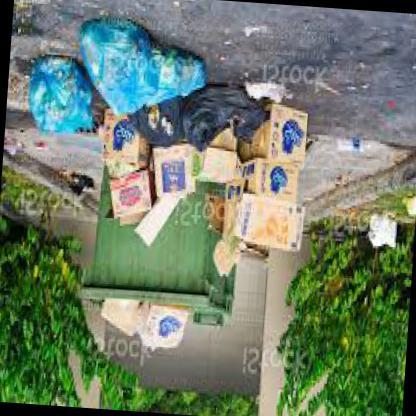Garbage: (70, 13, 208, 132), (138, 68, 276, 161), (224, 102, 312, 246), (20, 55, 104, 158)
